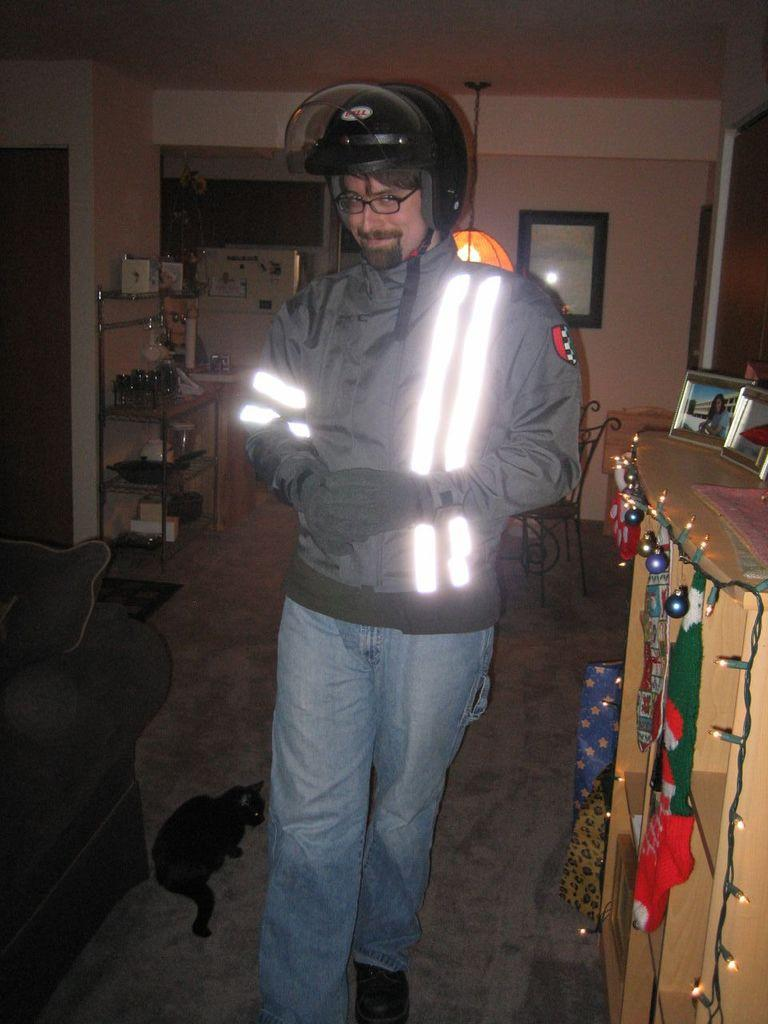helmet: (284, 83, 469, 259)
